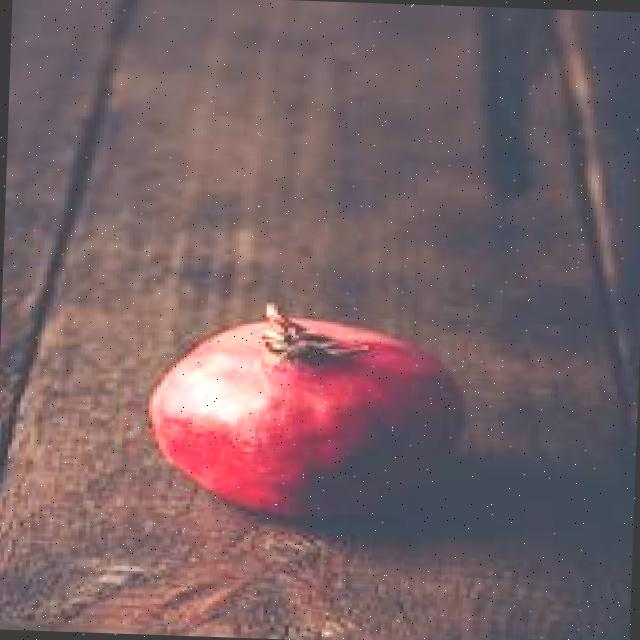Pomegranate: (142, 293, 476, 530)
